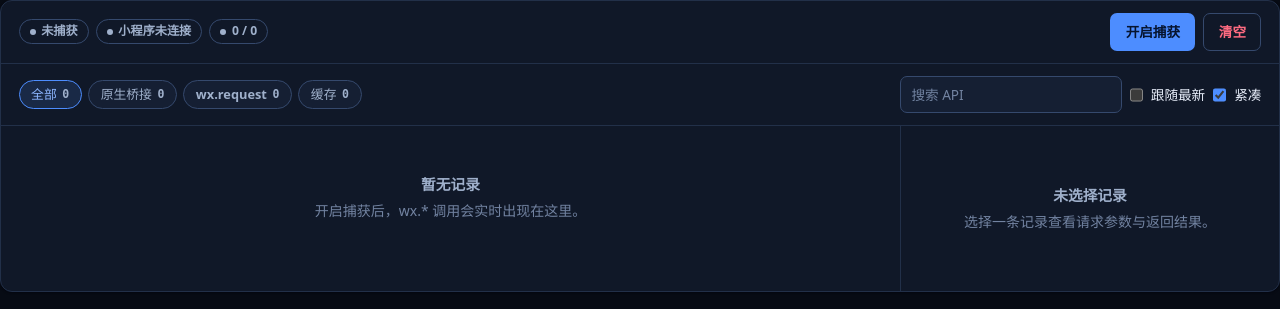
Test case: WxApiView › shows the shell and the page-side drop counters while capturing
The image size is (1280, 309).
Click the button with test id "wxapi-toggle" at {"x": 1153, "y": 32}, box [1110,13,1196,51]
Wait 200 ms
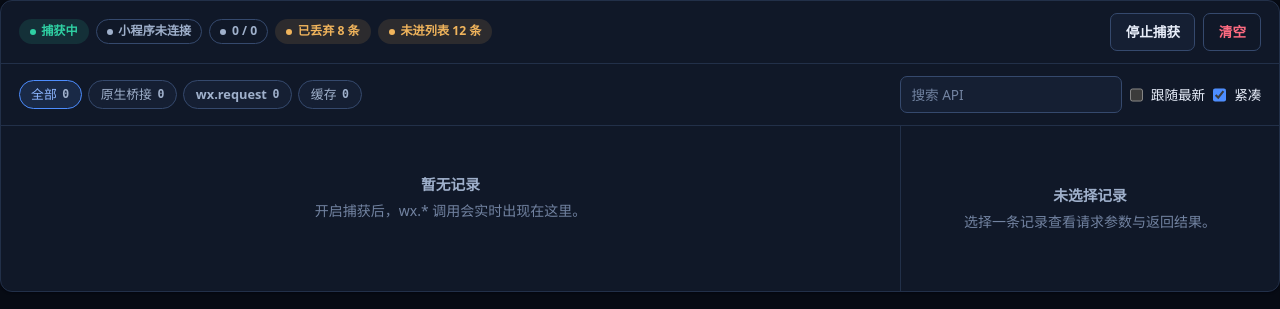
expect the text with test id "wxapi-dropped" reads "已丢弃 8 条": met, box [298,22,360,40]
expect the text with test id "wxapi-unlisted" reads "未进列表 12 条": met, box [400,22,481,40]
